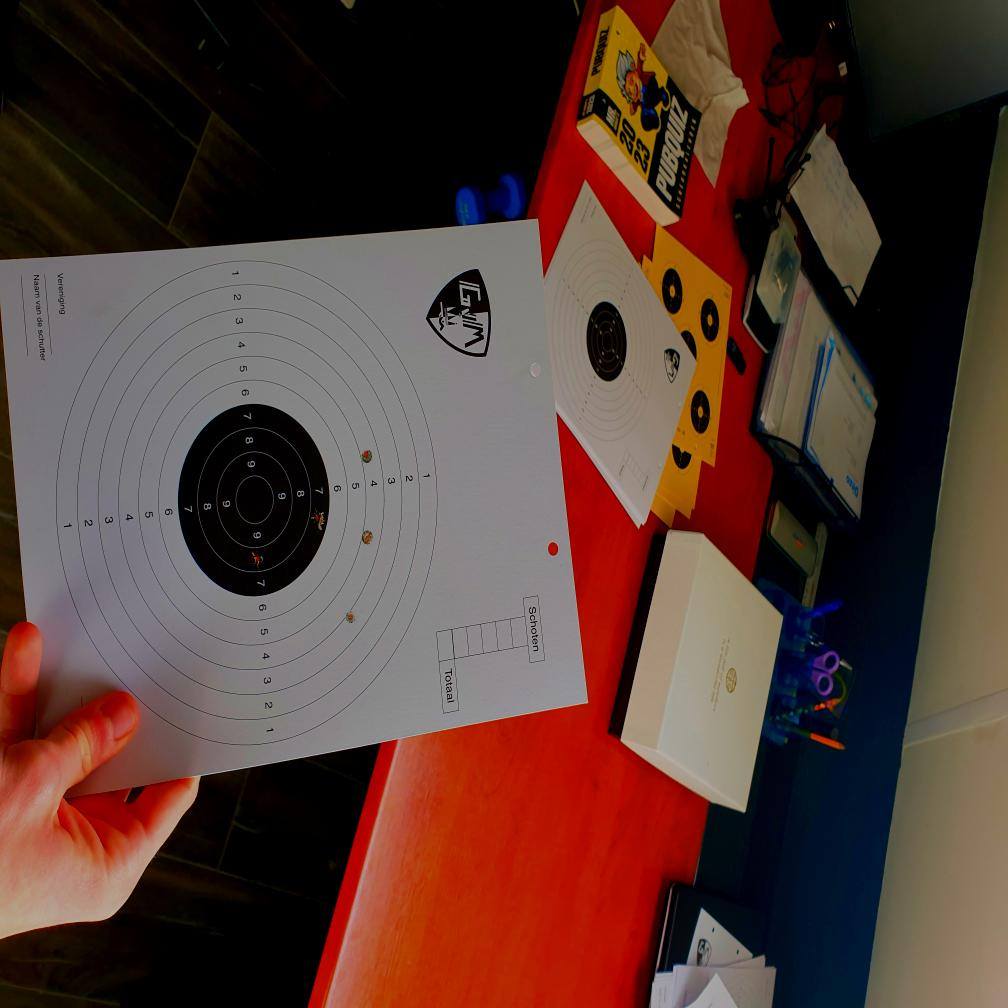4: (346, 612, 355, 624)
5: (361, 530, 373, 545), (360, 450, 372, 464)
7: (309, 507, 325, 530)
8: (248, 548, 262, 571)
Target: (54, 261, 439, 752)
black_contour: (178, 404, 329, 598)
